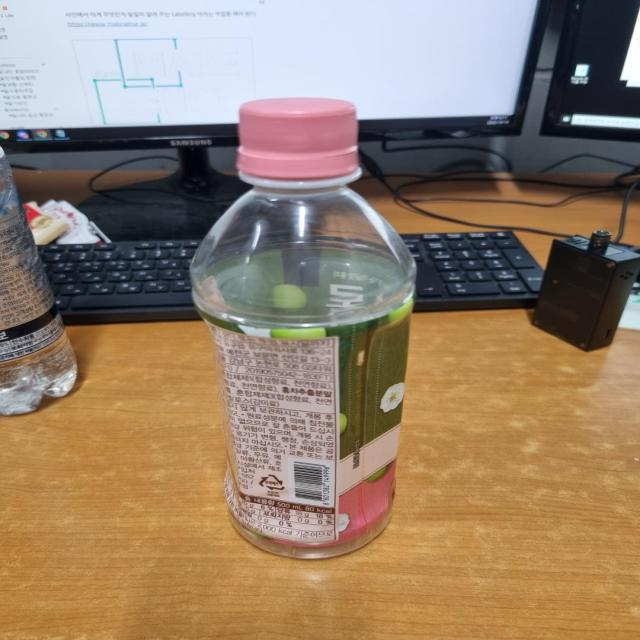plastic: (179, 97, 418, 570), (0, 145, 79, 418)
vinyl: (200, 290, 419, 554), (0, 203, 63, 365)
